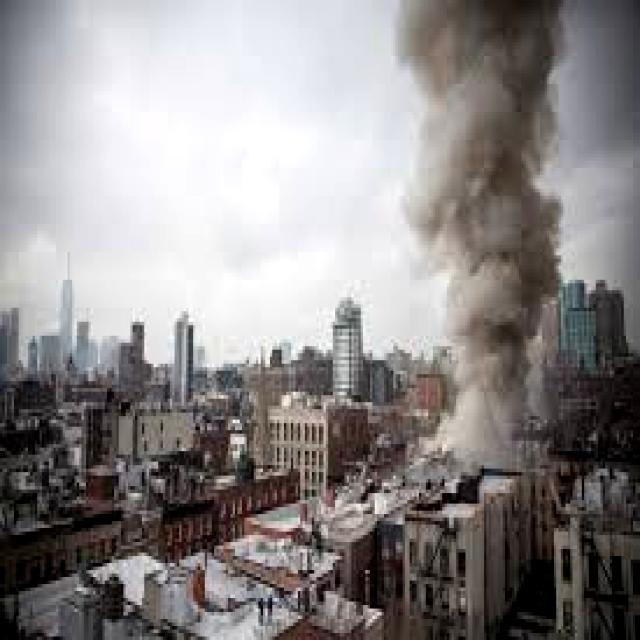Smoke: (379, 0, 582, 484)
